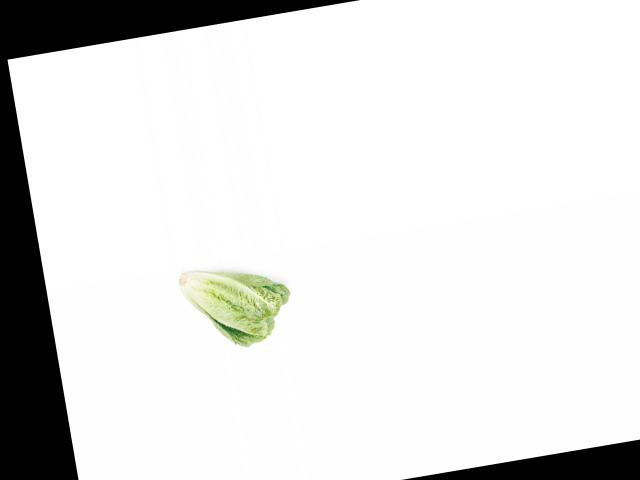lettuce: (169, 252, 297, 356)
